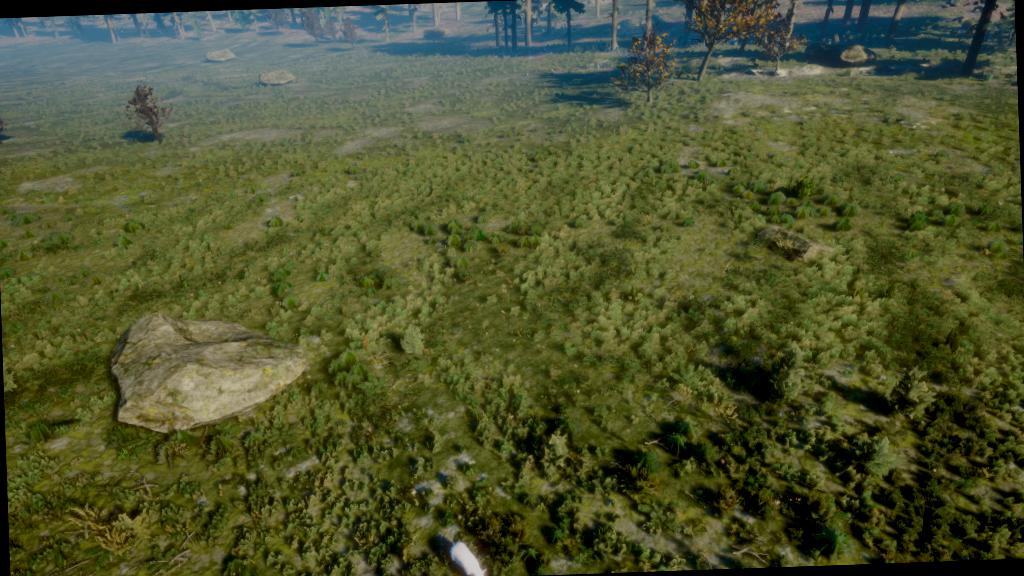pig: (446, 530, 509, 575)
